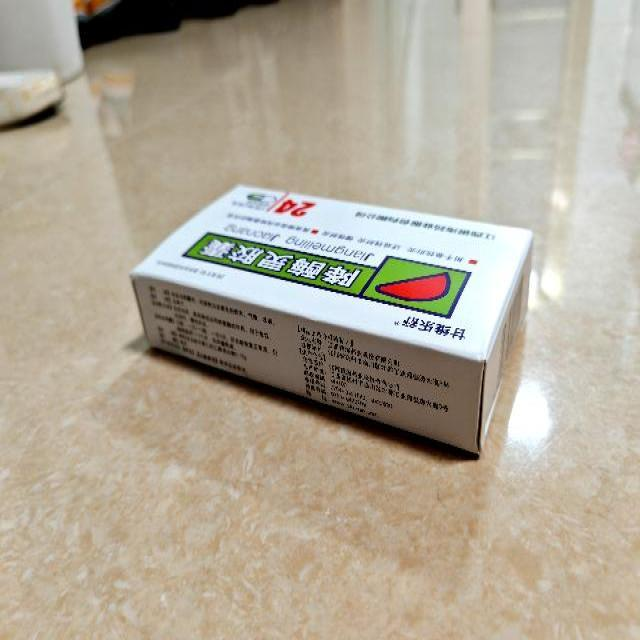box: (132, 184, 532, 459)
